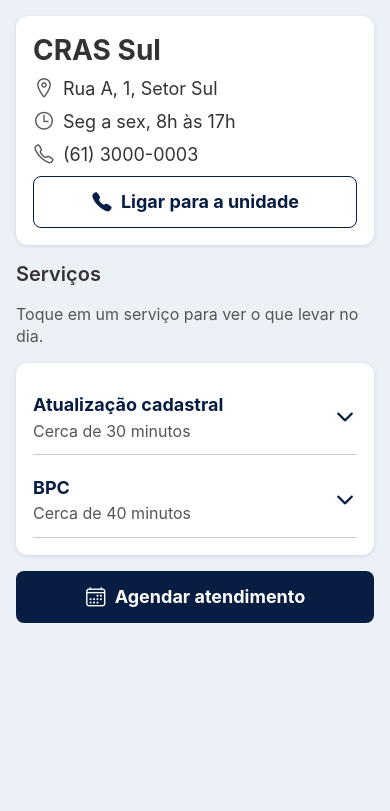
Test case: Detalhe da unidade (RF04, RF05) › mostra o checklist de documentos ao abrir um serviço e leva para o agendamento já com o serviço
Later steps or results of the test are not shown.
Expected: the text "(61) 3000-0003" is shown, [63,144,198,165]
Expected: the text "CPF do responsável" is not shown
Click the button "Atualização cadastral Cerca de 30 minutos".
click(195, 417)  # box [33,380,357,454]
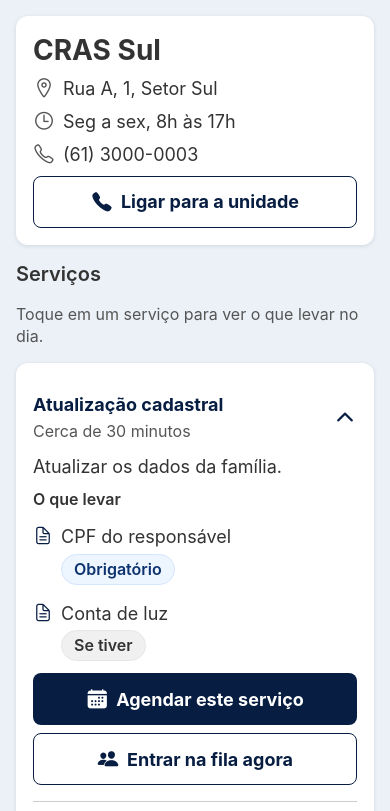
Expected: the text "CPF do responsável" is shown, [61,526,231,547]
Expected: the text "Obrigatório" is shown, [74,557,162,582]
Expected: the text "Se tiver" is shown, [74,633,133,658]
